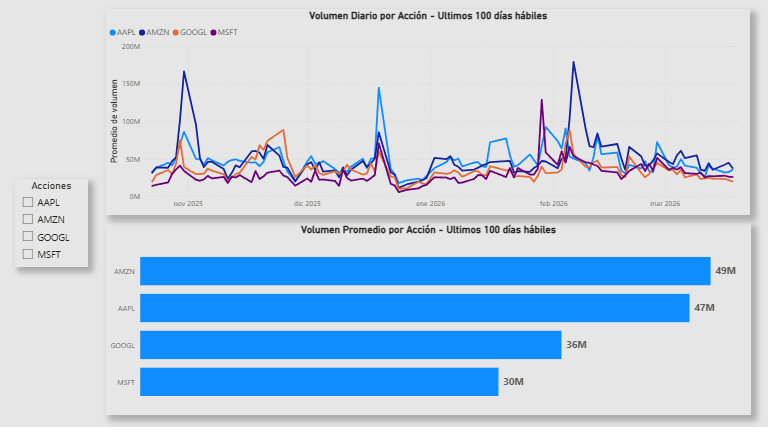

The page's visual inventory and layout, read from the dashboard file:
{"tool":"powerbi","page":{"name":"Volumen","canvas":[1280,720],"ordinal":3},"visuals":[{"type":"slicer","title":"Acciones","fields":{"Values":["stock_metrics.symbol"]},"box":[24.3,300,121.4,145.7],"z":0},{"type":"lineChart","title":"Volumen Diario por Acción - Ultimos 100 días hábiles","fields":{"Category":["stock_prices.date"],"Y":["Avg(stock_prices.volume)"],"Series":["stock_metrics.symbol"]},"box":[177.1,17.1,1074.3,342.9],"z":1000},{"type":"clusteredBarChart","title":"Volumen Promedio por Acción - Ultimos 100 días hábiles","fields":{"Category":["stock_prices.symbol"],"Y":["Avg(stock_prices.volume)"]},"box":[176.7,373.3,1075,320],"z":2000}]}

Visuals, with their boxes on the page's 1280x720 design canvas (x1, y1, x2, y2). These are canvas units, not pixel positions in the 768x427 screenshot, which may show the page scaled, cropped or inside an application window:
"Acciones" slicer: box(24, 300, 146, 446)
"Volumen Diario por Acción - Ultimos 100 días hábiles" lineChart: box(177, 17, 1251, 360)
"Volumen Promedio por Acción - Ultimos 100 días hábiles" clusteredBarChart: box(177, 373, 1252, 693)
